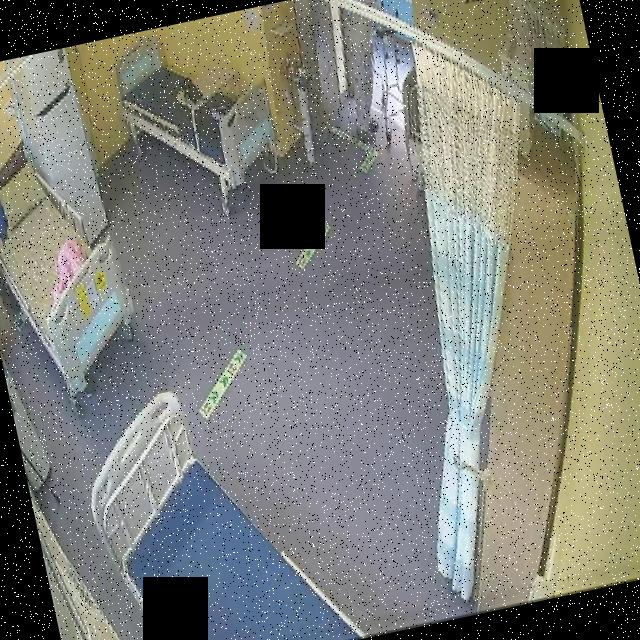bed: (67, 359, 361, 640), (0, 143, 144, 389), (109, 16, 286, 206)
patient: (324, 0, 412, 149)
